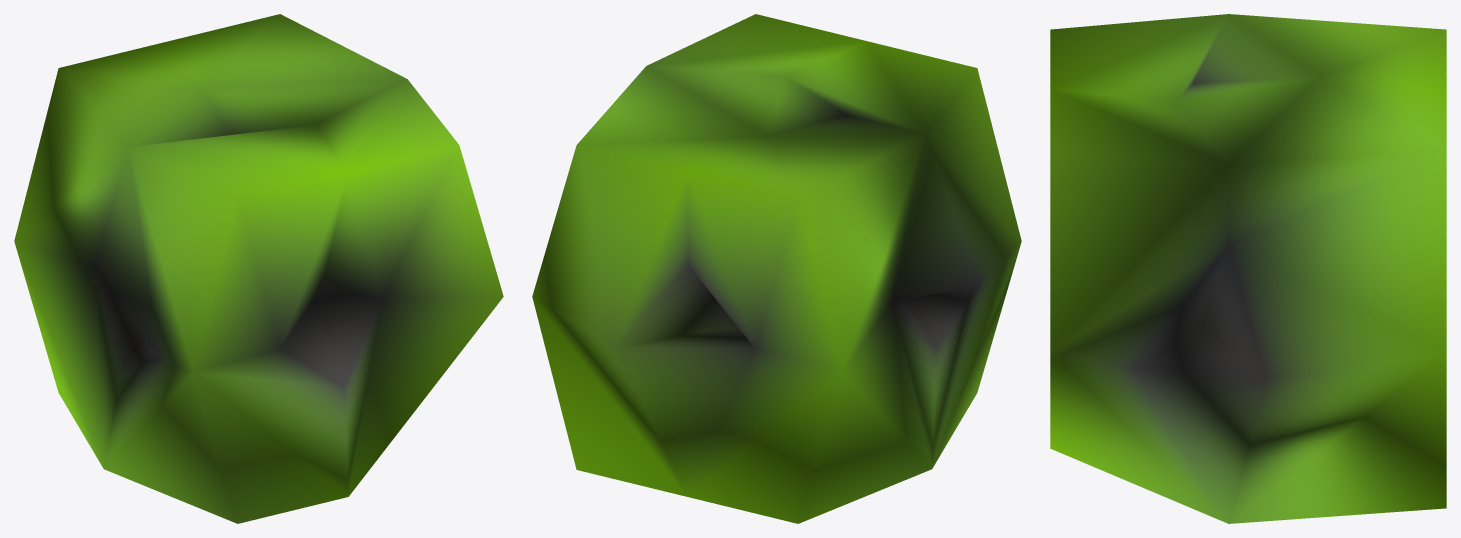
Rendered from junction_box_lod7.glb.
3 renders of one model, left to right at view 1: azimuth 30°, elevation 25°; view 2: azimuth 150°, elevation 25°; view 3: azimuth 270°, elevation 25°, orthographic. The views are drawn at different scales.
Parts seen in each view (by area): view 1: junction_box; view 2: junction_box; view 3: junction_box.
Boxes of the visible parts, x1,y1,x2,y2 form: junction_box: (14,14,503,523); junction_box: (532,14,1021,523); junction_box: (1050,14,1446,523).
Size of the model in its own units: 2 by 2 by 2.
